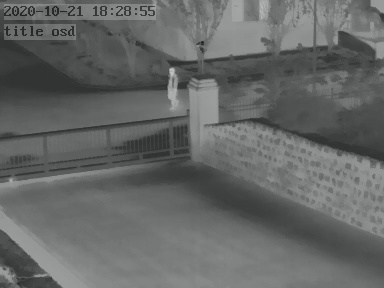person: (165, 66, 181, 108)
